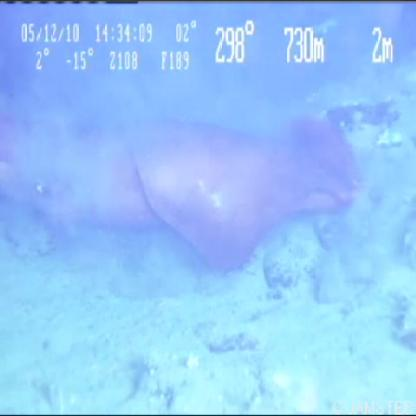Bio: (1, 93, 372, 274)
